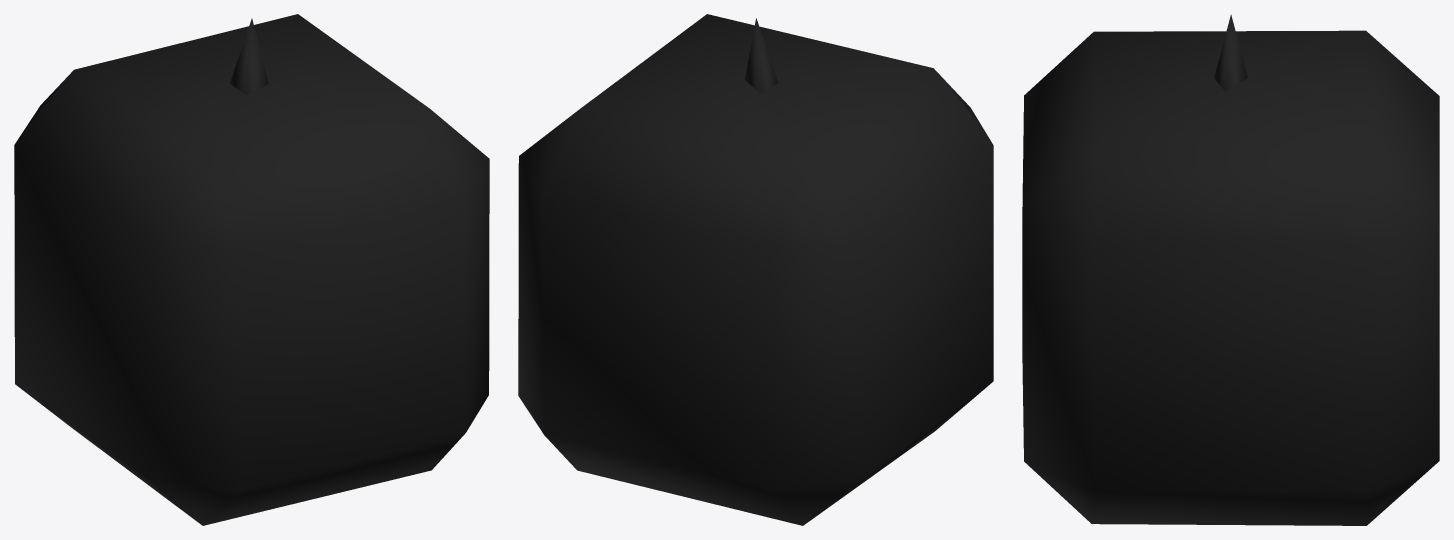
File: bomb.obj
3 views of the same model, side by side, from view 1: azimuth 30°, elevation 25°; view 2: azimuth 150°, elevation 25°; view 3: azimuth 270°, elevation 25° (orthographic). The views are drawn at different scales.
Visible parts, largest first — view 1: Cube; view 2: Cube; view 3: Cube.
Part boxes in pixels (x1=…): Cube: x1=14, y1=14, x2=489, y2=525; Cube: x1=518, y1=14, x2=993, y2=525; Cube: x1=1022, y1=14, x2=1439, y2=525.
Bounding box in the file's own units: 0.9784 × 1.24 × 0.979.
1 material, 1 textured.
